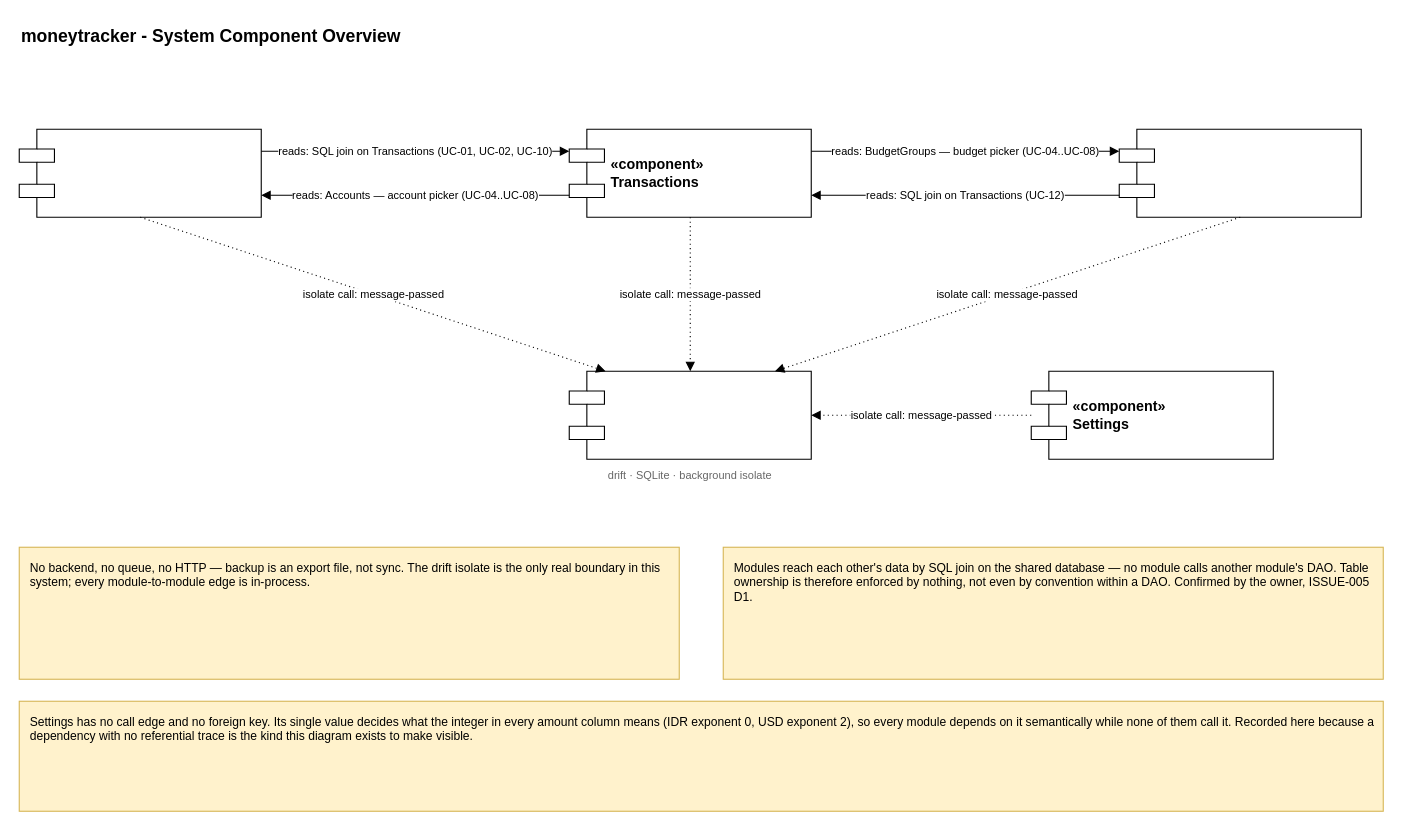
This 1403x831 diagram has some shape labels left out. The centre of each missing label's shape, as x and y in pixels:
«component» Accounts: the point at 139,172
«component» AppDatabase: the point at 689,414
«component» Budgeting: the point at 1239,172
